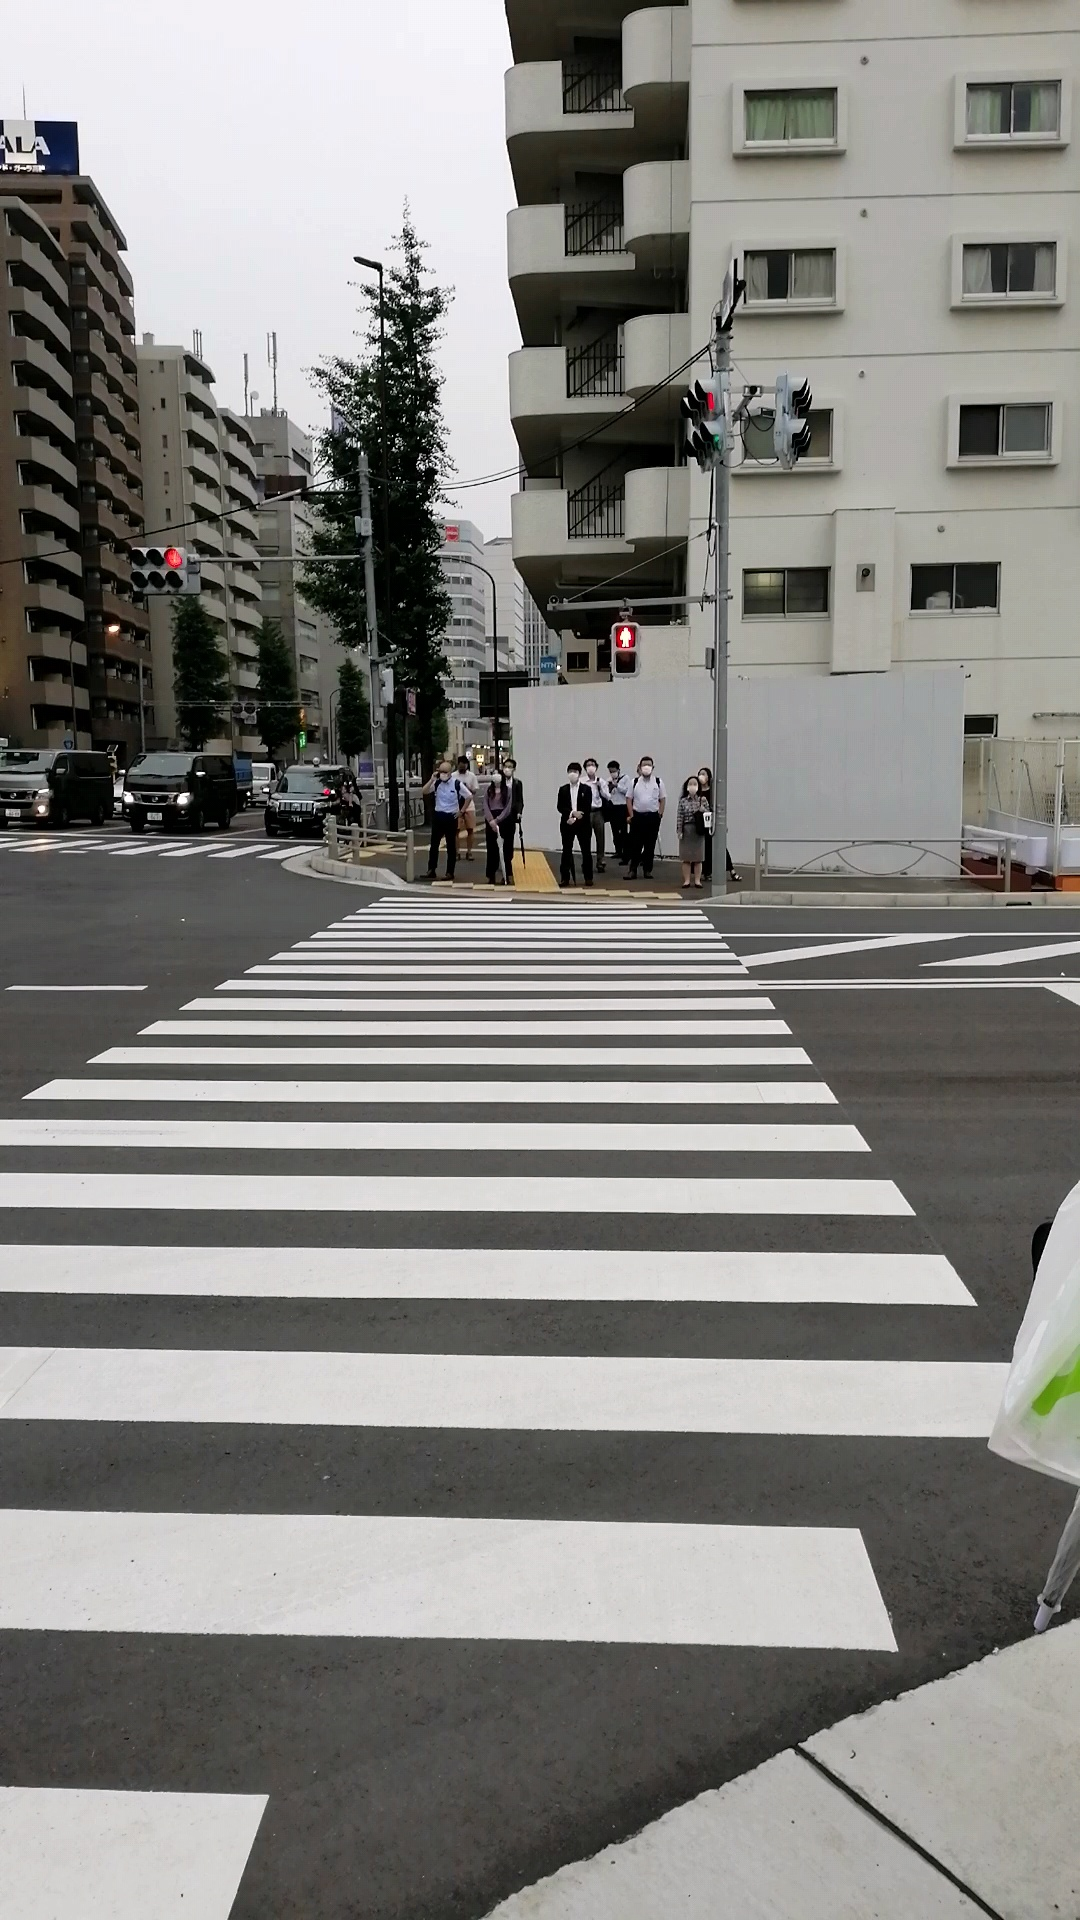red: (611, 621, 641, 676)
